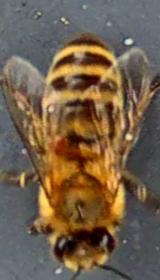varroa_mite: (42, 128, 68, 162)
